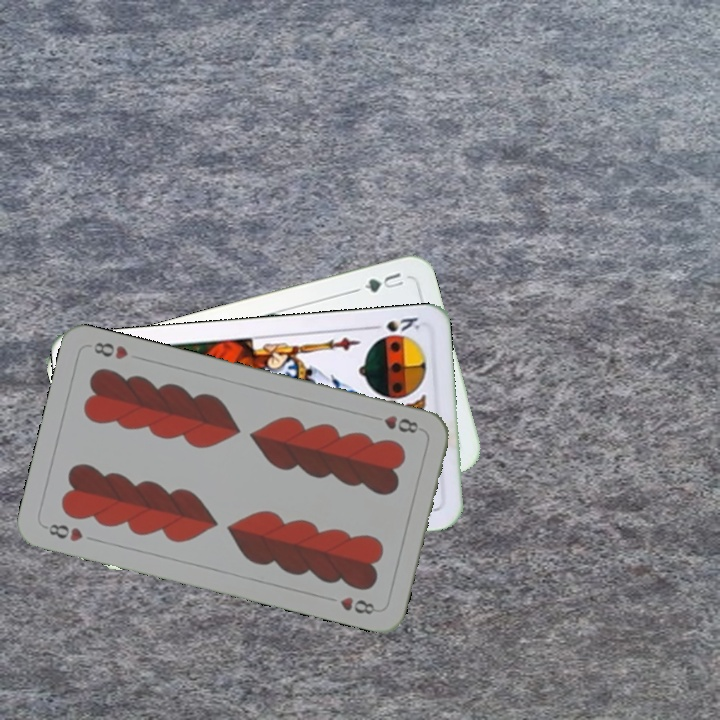GU: (351, 268, 406, 296)
H8: (367, 411, 421, 436), (40, 519, 86, 544)
SK: (365, 313, 424, 334)
